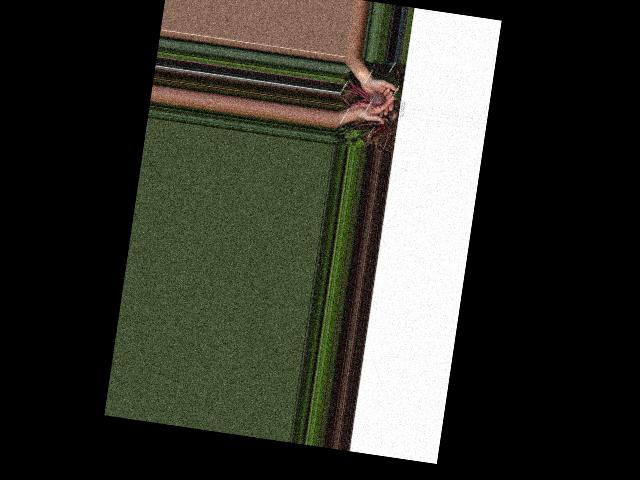beet: (340, 77, 389, 111)
